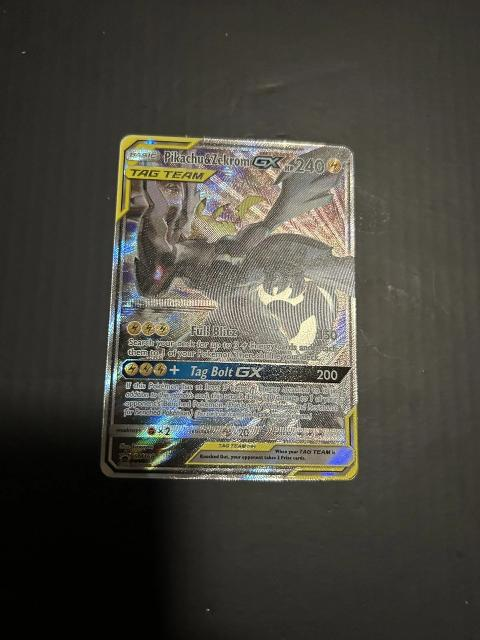Card: (91, 130, 365, 484)
Name: (160, 145, 288, 173)
